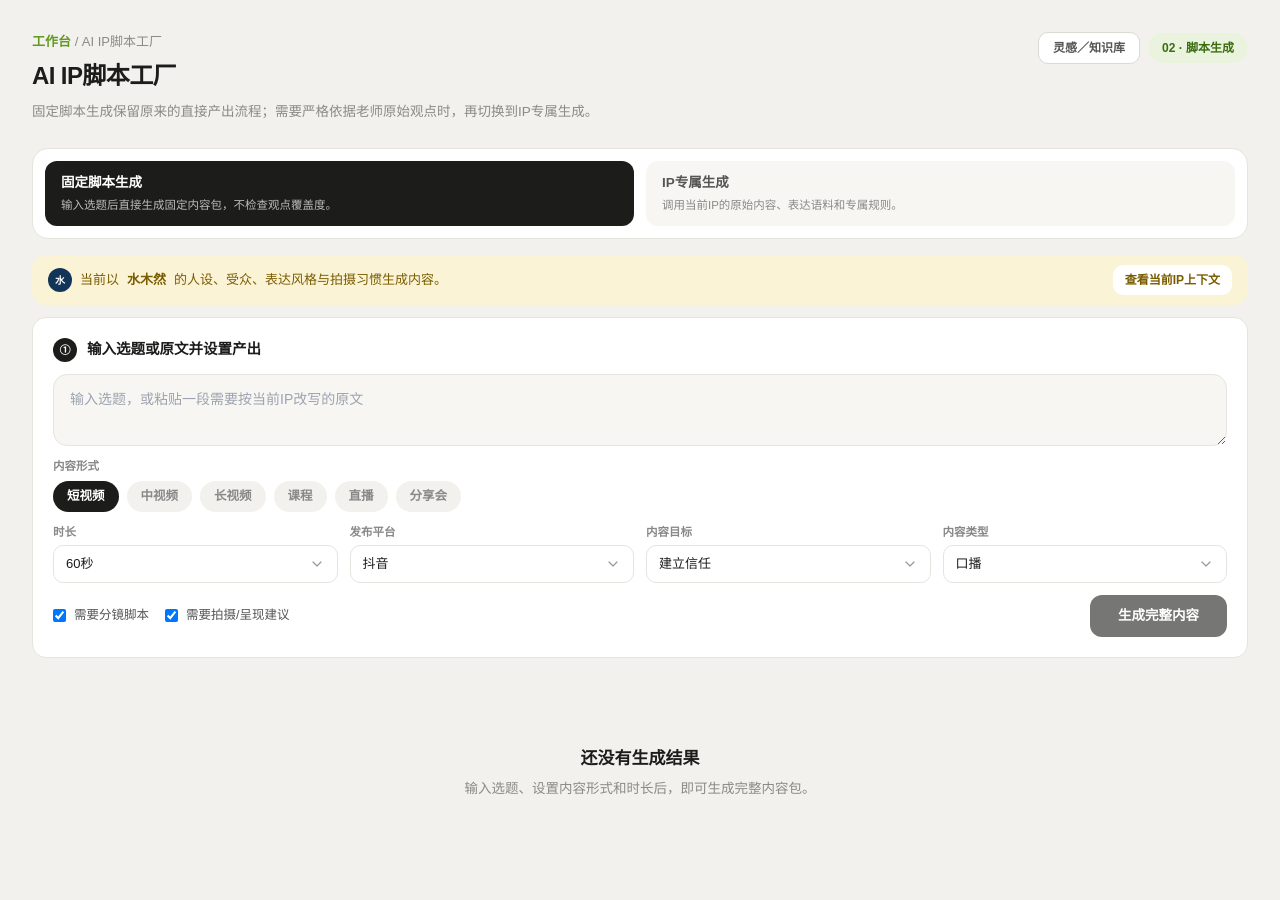
Test: 知识检索完成但脚本最终生成失败时不留下已用于脚本记录
Type "失败后不能提前记账" into the text box with placeholder "输入选题，或粘贴一段需要按当前IP改写的原文" at (640, 410), box [53,374,1227,446]
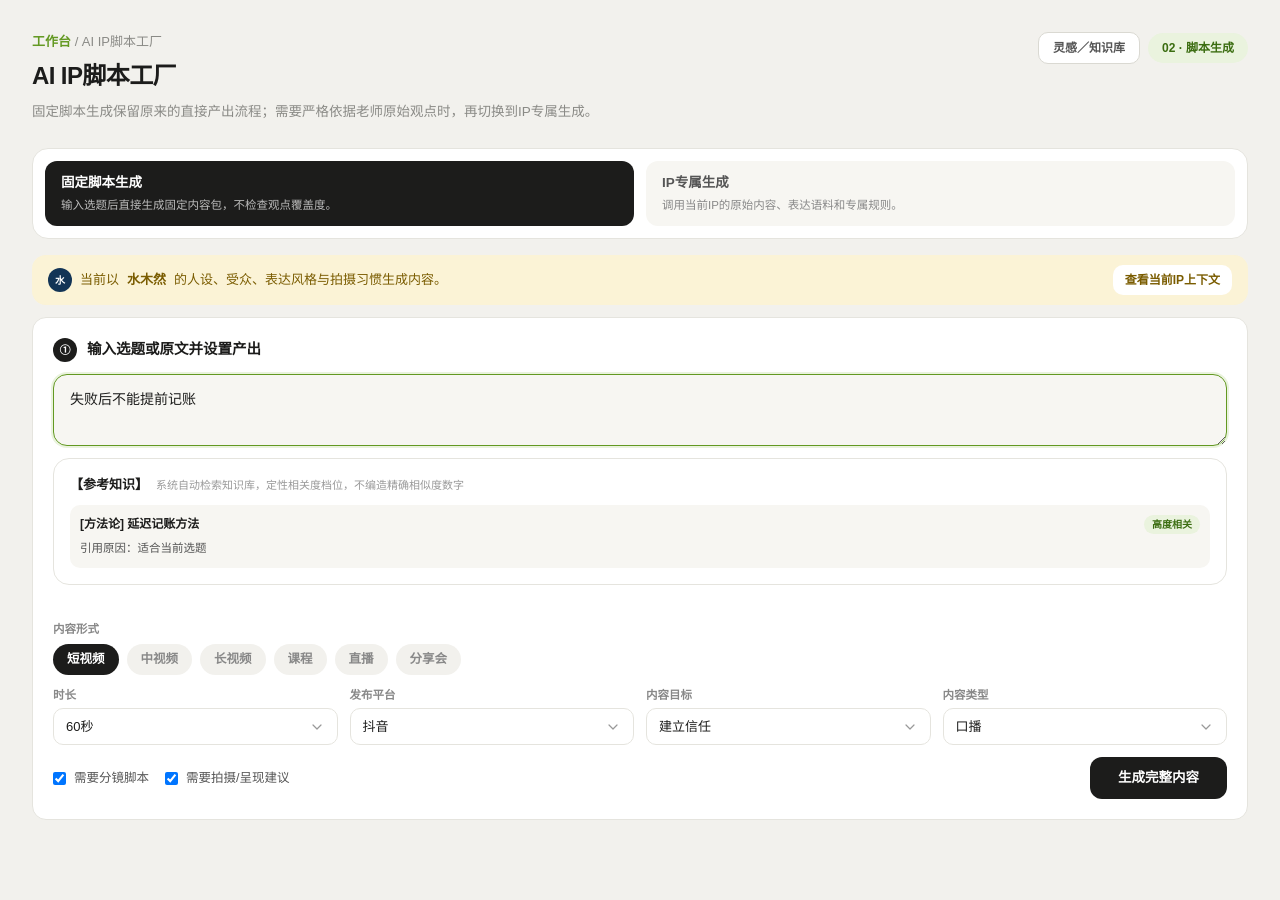
Expected: the text "[方法论] 延迟记账方法" is shown, [80,515,199,533]
Click the button "生成完整内容" at (1158, 778), box [1090,757,1227,799]
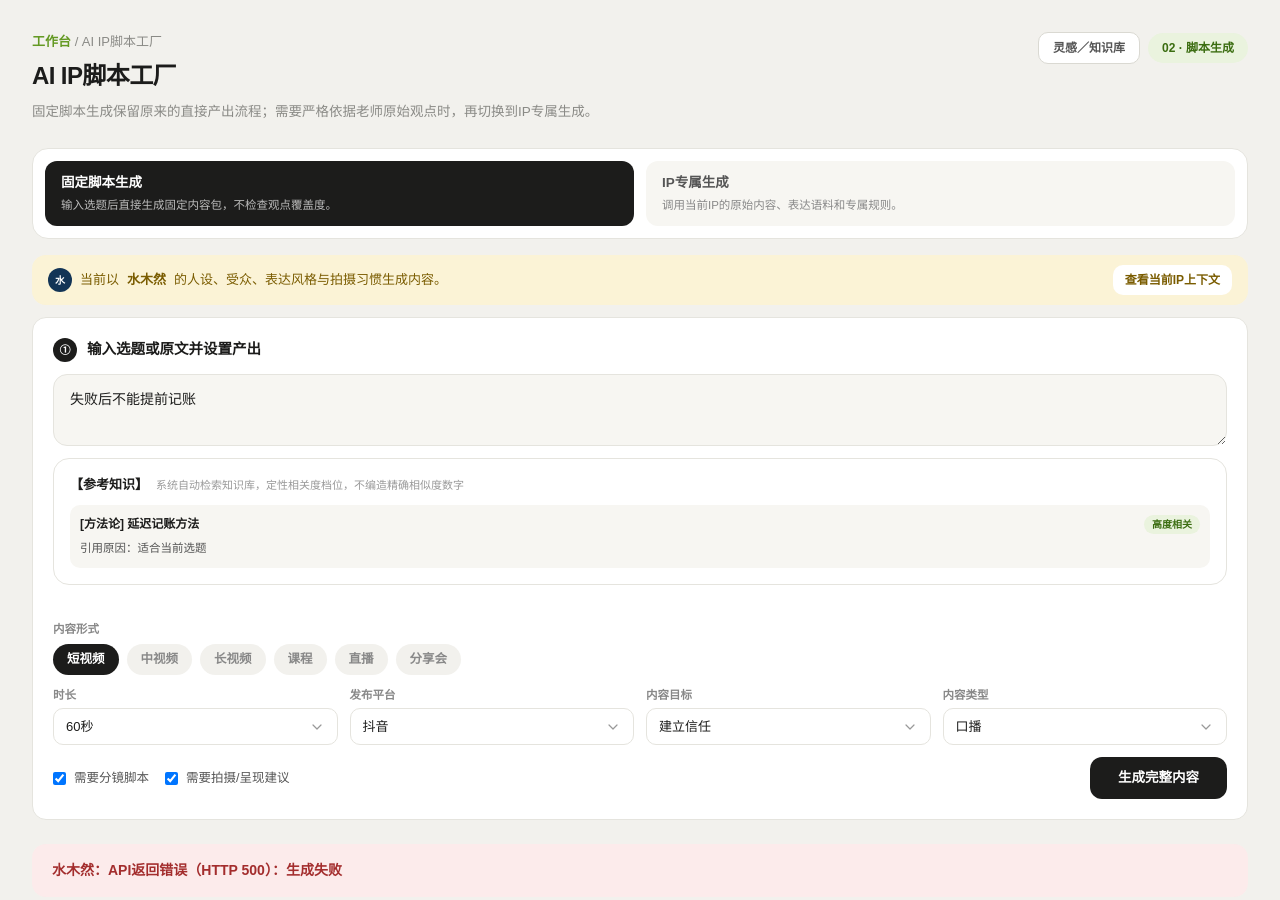
Expected: the text "水木然：API返回错误（HTTP 500）：生成失败" is shown, [32,844,1248,897]
